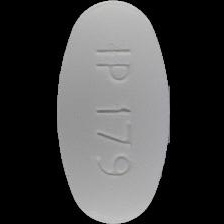42291-611: (0, 0, 224, 224)
